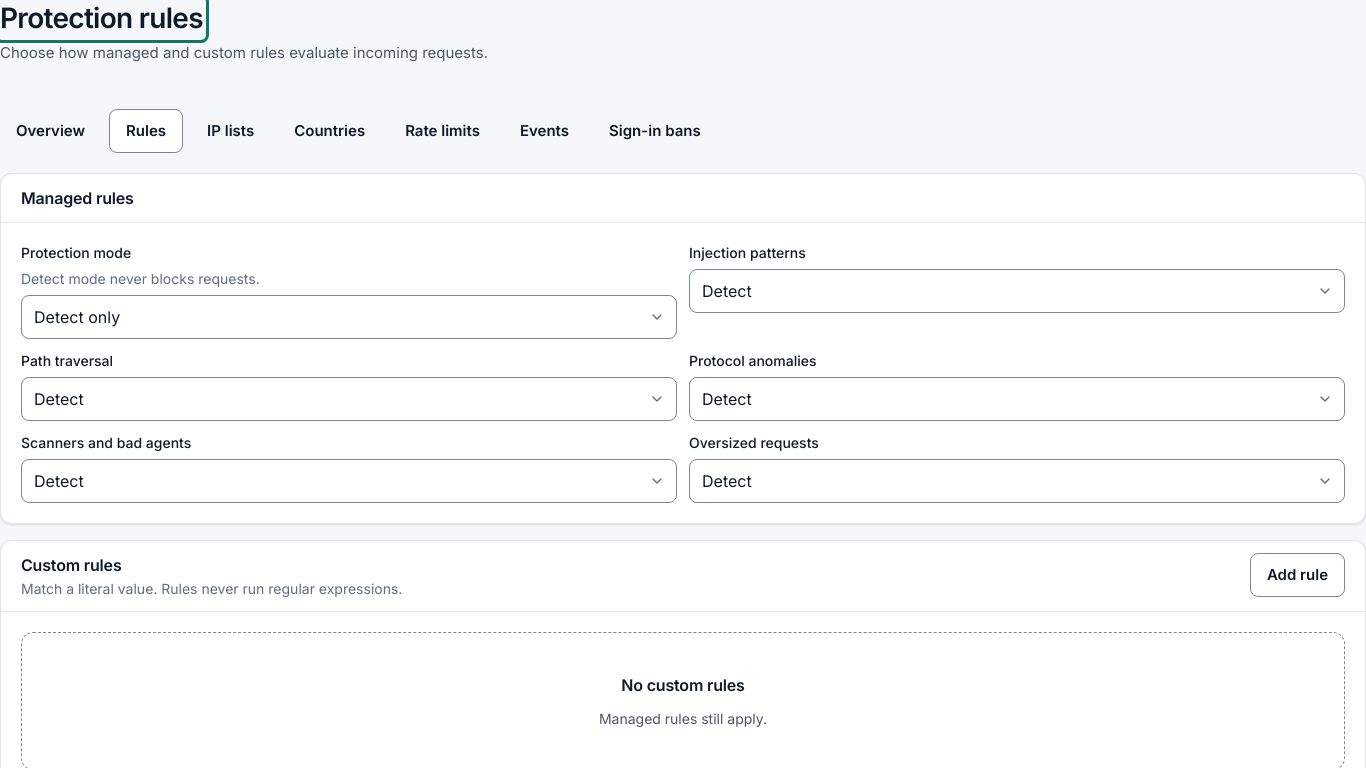
Test: keeps policy changes in a draft and returns focus when confirmation is cancelled
Select "Enforce" in the dropdown labelled "Protection mode": point(349, 317) [21,295,677,339]
(page scrolled)
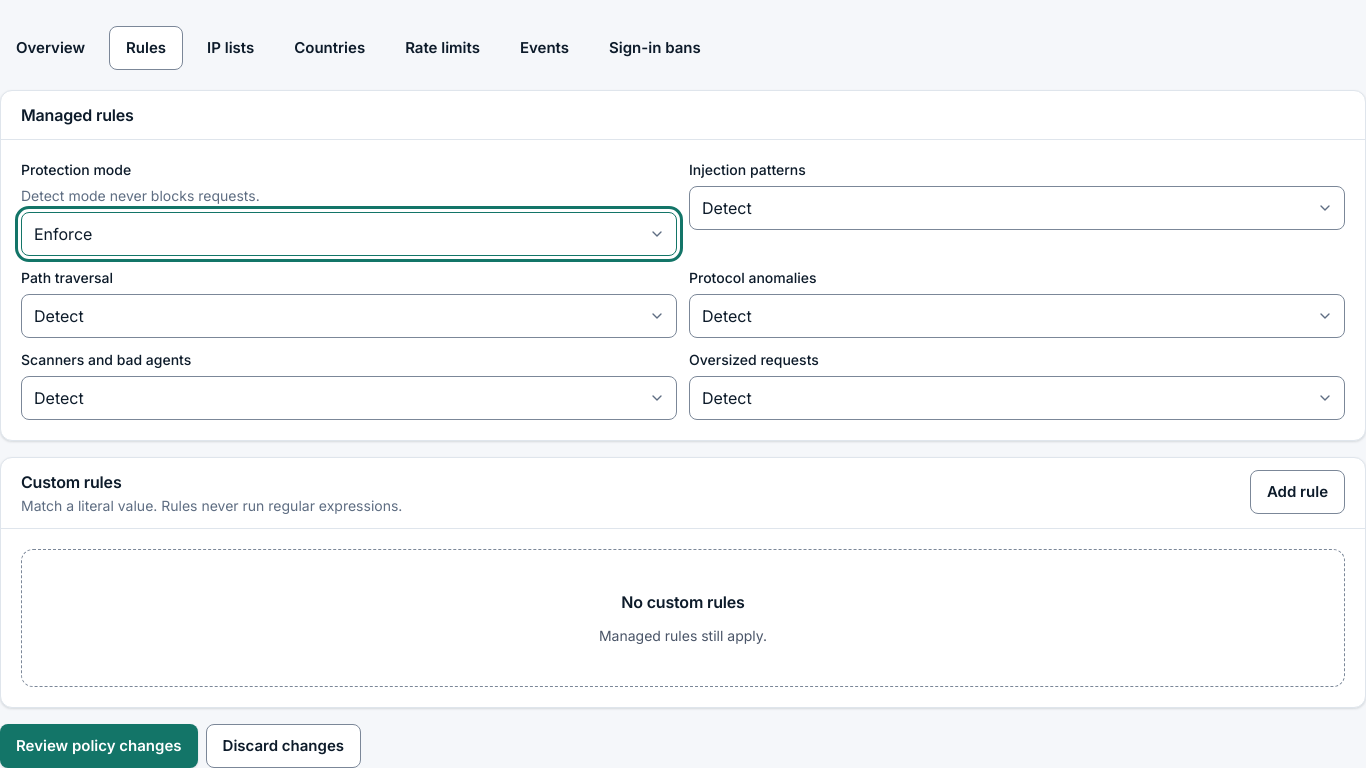
Click the button "Review policy changes": point(99, 746) [0,724,198,767]
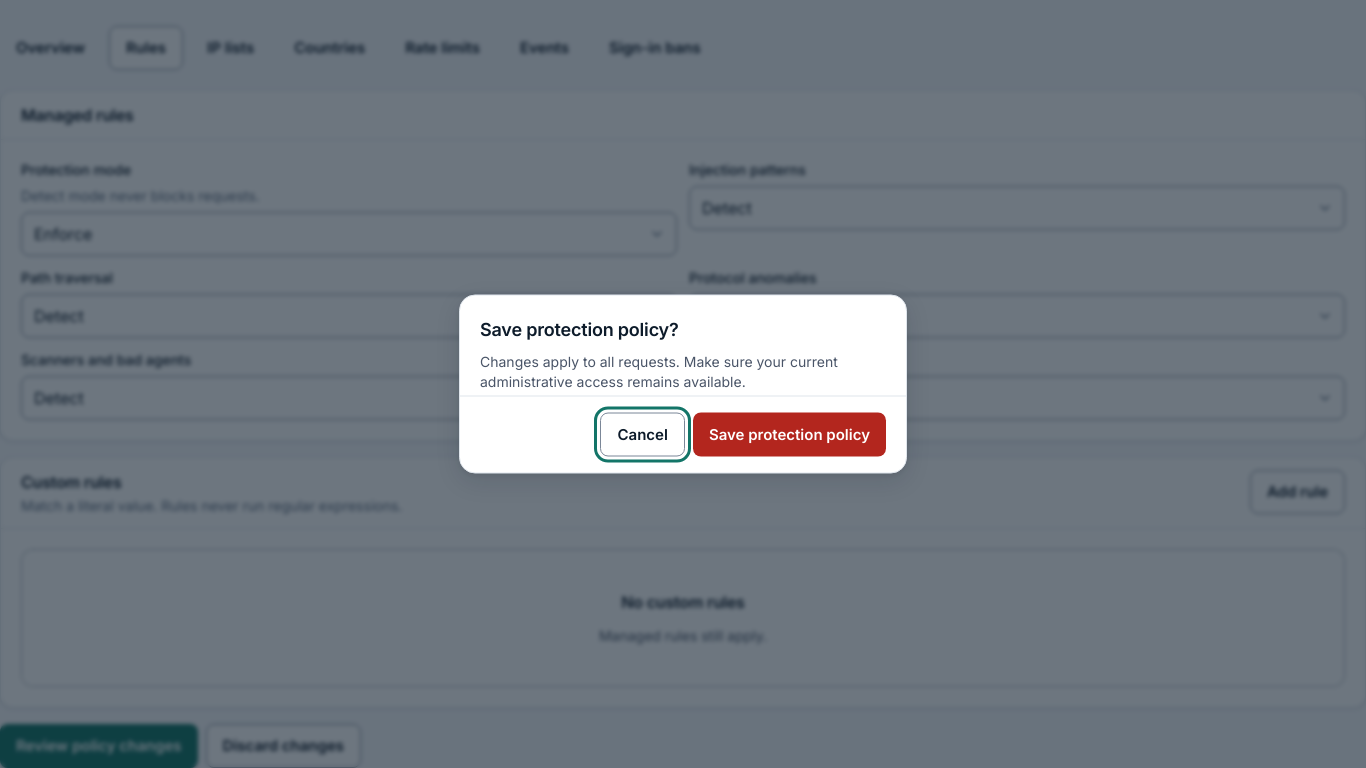
Expected: the dialog "Save protection policy?" is shown, [459,294,907,474]
Press Escape
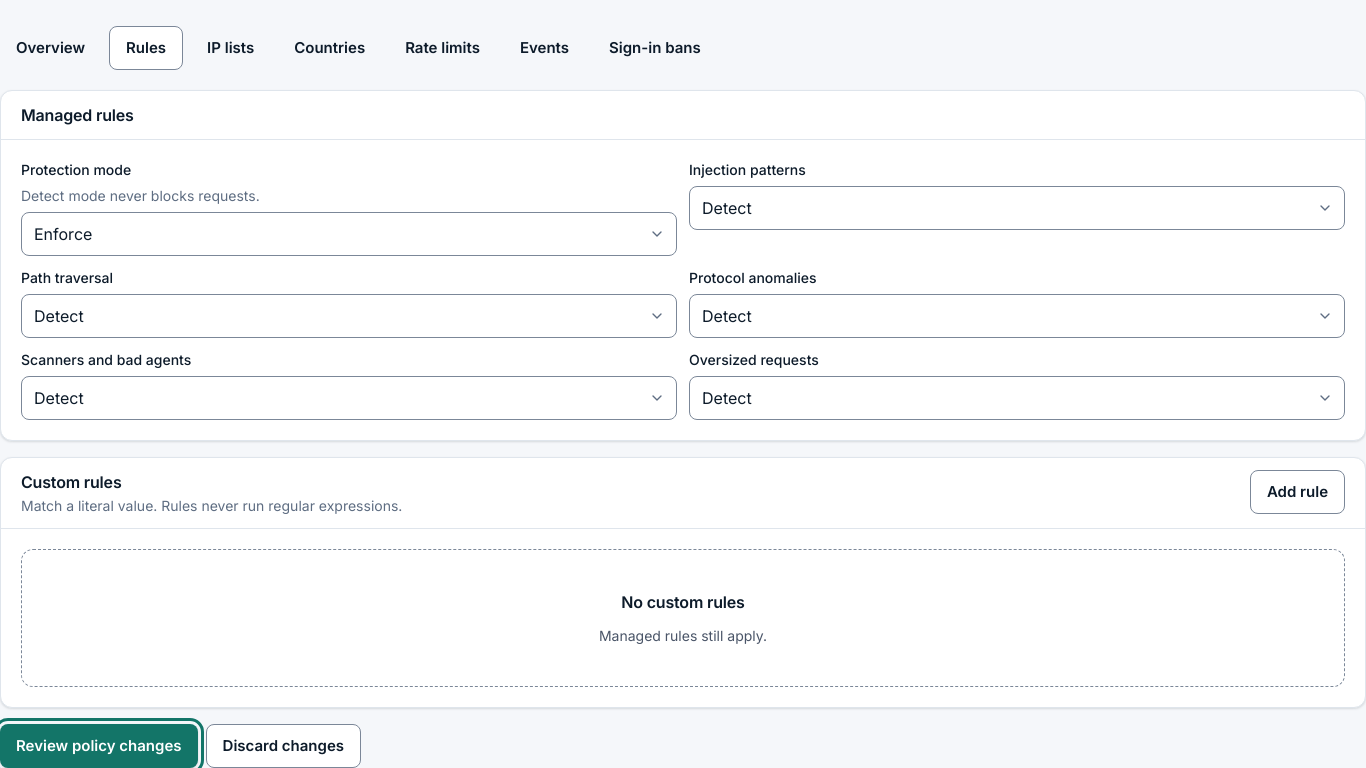
Expected: the dialog is gone
